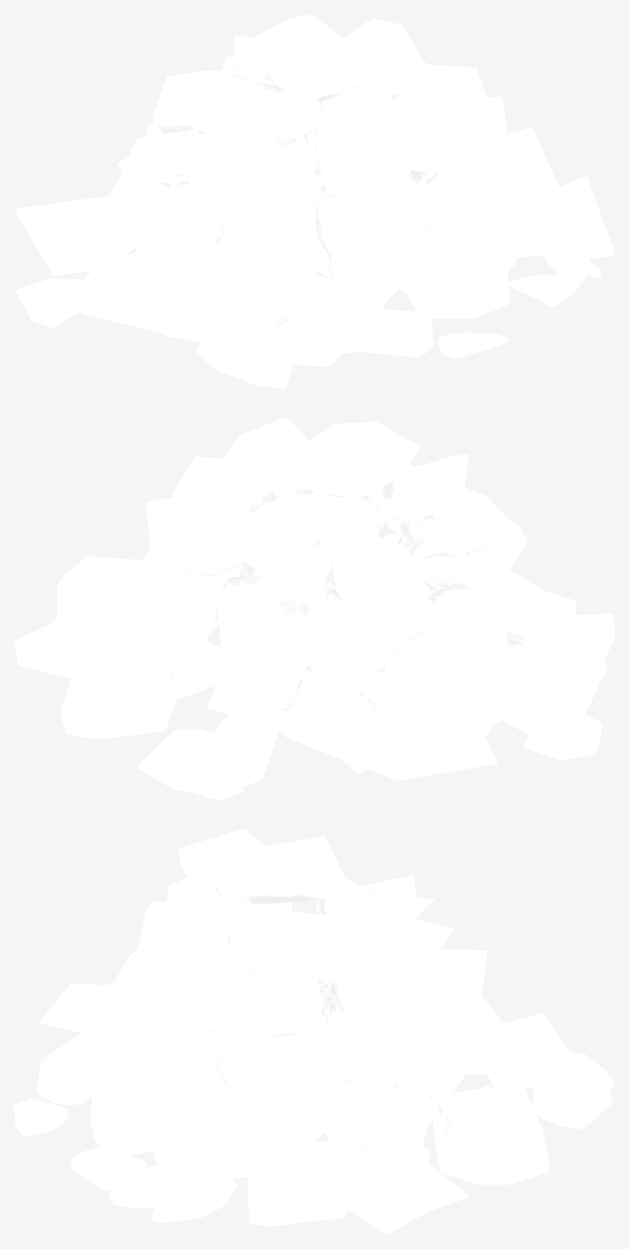
Rendered from rock_cluster.glb.
3 renders of one model, top to bottom at view 1: azimuth 30°, elevation 25°; view 2: azimuth 150°, elevation 25°; view 3: azimuth 270°, elevation 25°, orthographic. The views are drawn at different scales.
Bounding box in the file's own units: 1.88 × 0.8046 × 1.73.
1 material, 1 textured.
